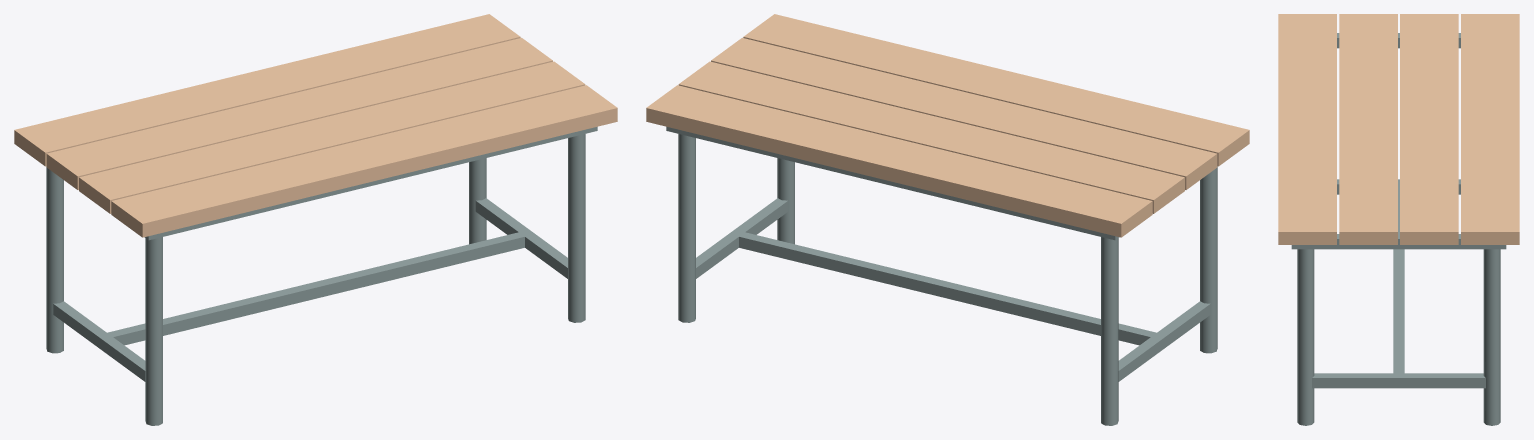
The model's file is diningIndustrialPipe.glb.
The picture shows the model from 3 angles, left to right: view 1: azimuth 30°, elevation 25°; view 2: azimuth 150°, elevation 25°; view 3: azimuth 270°, elevation 25°; orthographic projection. The views are drawn at different scales.
Visible parts, largest first — view 1: diningIndustrialPipe; view 2: diningIndustrialPipe; view 3: diningIndustrialPipe.
Part boxes in pixels (box(x1,y1,x2,y2)): diningIndustrialPipe: box(14, 14, 617, 425); diningIndustrialPipe: box(646, 14, 1249, 425); diningIndustrialPipe: box(1278, 14, 1519, 425).
Size of the model in its own units: 0.9 by 0.39 by 0.421.
